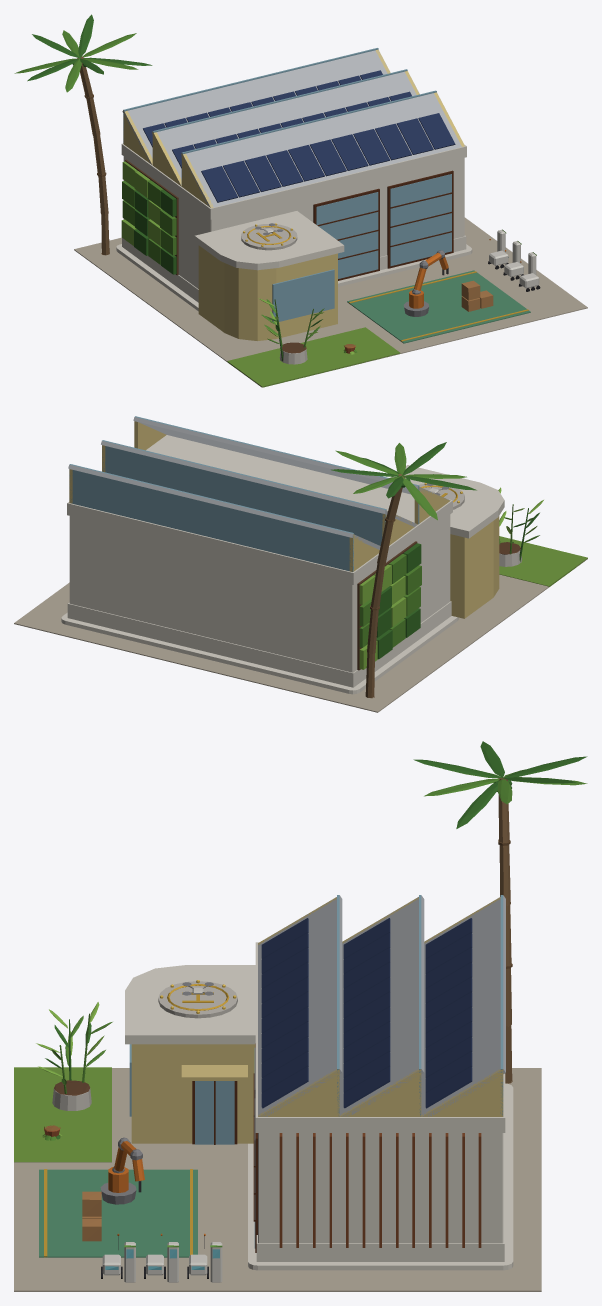
Rendered from factory_1.glb.
3 renders of one model, top to bottom at view 1: azimuth 30°, elevation 25°; view 2: azimuth 150°, elevation 25°; view 3: azimuth 270°, elevation 25°, orthographic. The views are drawn at different scales.
Visible parts, largest first — view 1: body; view 2: body; view 3: body.
Boxes of the visible parts, left/top/right/bottom form: body: left=14, top=14, right=587, bottom=387; body: left=14, top=416, right=587, bottom=712; body: left=14, top=741, right=587, bottom=1291.
Size of the model in its own units: 19.23 by 10.53 by 17.3.
